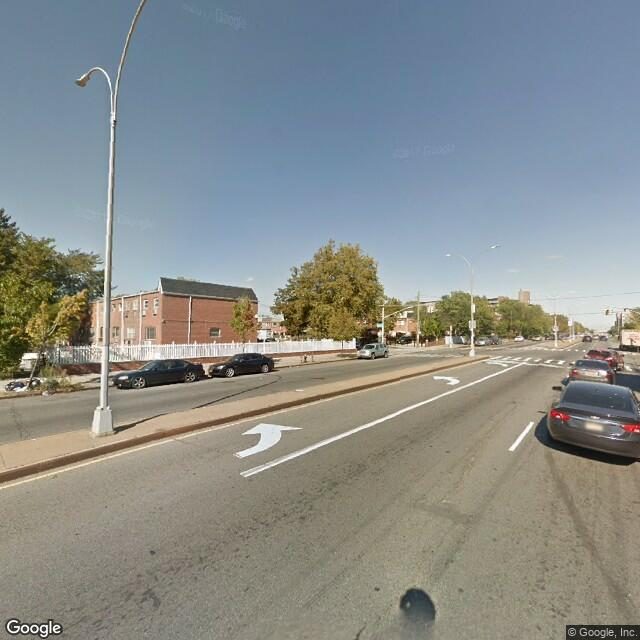litter: (294, 386, 305, 393)
